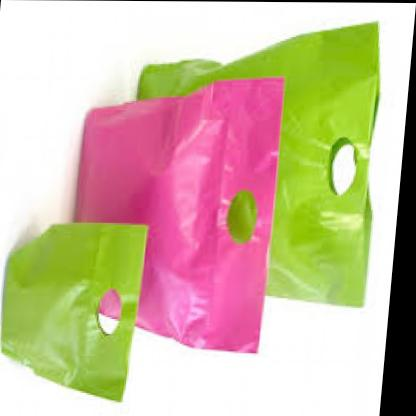Plastic: (0, 7, 397, 396)
